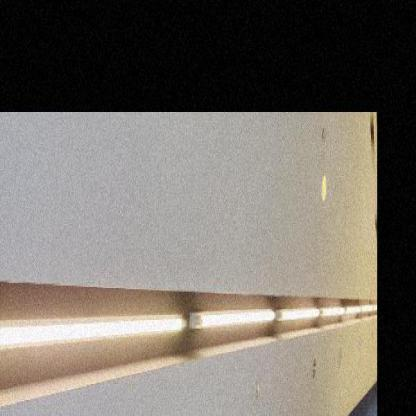light_on: (0, 294, 192, 386), (190, 287, 276, 348), (275, 299, 323, 334), (320, 302, 349, 329), (343, 299, 363, 331), (364, 302, 376, 321)
